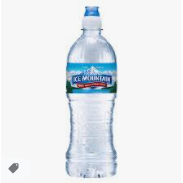Bottle: (64, 4, 120, 183)
